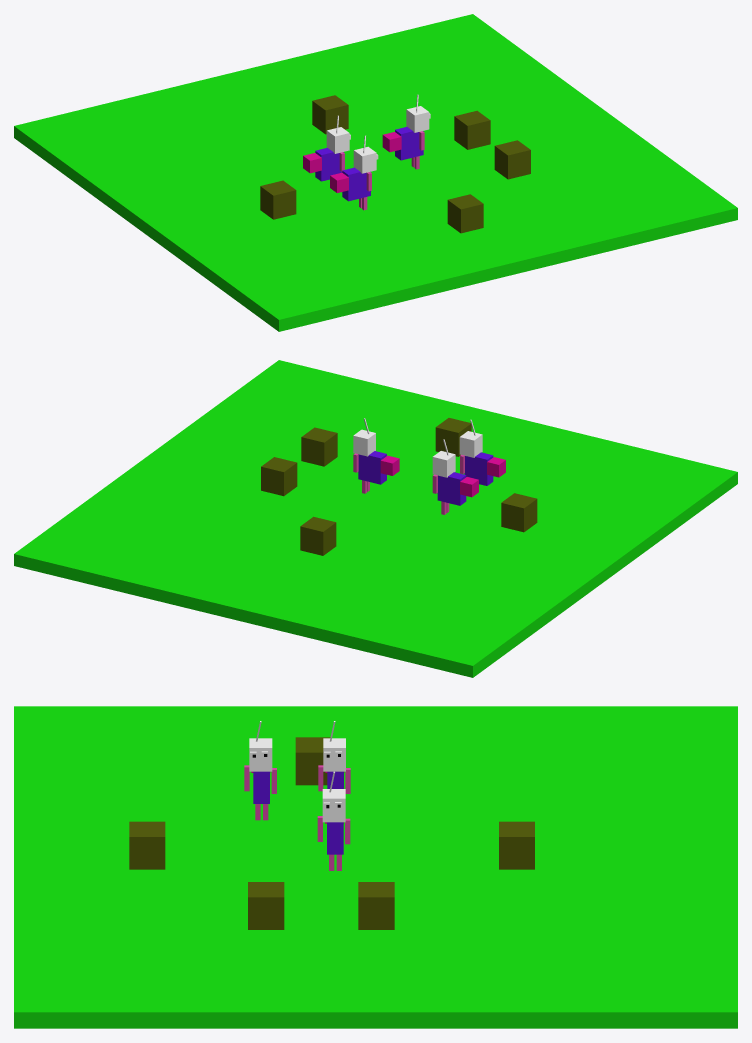
Rendered from Practica8.gltf.
3 views of the same model, one above another, from view 1: azimuth 30°, elevation 25°; view 2: azimuth 150°, elevation 25°; view 3: azimuth 270°, elevation 25° (orthographic). The views are drawn at different scales.
Visible parts, largest first — view 1: MeshInstance3D, MeshInstance3D3, MeshInstance3D2, MeshInstance3D4, MeshInstance3D6, MeshInstance3D5, Cuerpo, Cuerpo3, Cuerpo2, Cabeza2, Cabeza3, Cabeza; view 2: MeshInstance3D, MeshInstance3D2, MeshInstance3D3, MeshInstance3D6, MeshInstance3D5, MeshInstance3D4, Cuerpo, Cuerpo2, Cuerpo3, Cabeza2, Cabeza3, Cabeza; view 3: MeshInstance3D, MeshInstance3D4, MeshInstance3D2, MeshInstance3D3, MeshInstance3D5, MeshInstance3D6, Cabeza3, Cabeza, Cabeza2, Cuerpo, Cuerpo3.
Boxes of the visible parts, x1,y1,x2,y2 form: MeshInstance3D: (14, 14, 737, 331); MeshInstance3D3: (494, 140, 530, 179); MeshInstance3D2: (454, 110, 490, 149); MeshInstance3D4: (447, 194, 483, 233); MeshInstance3D6: (260, 180, 296, 219); MeshInstance3D5: (312, 95, 348, 134); Cuerpo: (395, 127, 423, 160); Cuerpo3: (342, 167, 370, 201); Cuerpo2: (315, 148, 343, 181); Cabeza2: (326, 127, 349, 153); Cabeza3: (353, 146, 376, 173); Cabeza: (406, 106, 429, 132); MeshInstance3D: (14, 360, 737, 677); MeshInstance3D2: (261, 457, 297, 496); MeshInstance3D3: (301, 427, 337, 466); MeshInstance3D6: (501, 493, 537, 532); MeshInstance3D5: (300, 516, 336, 555); MeshInstance3D4: (435, 418, 471, 456); Cuerpo: (358, 451, 386, 484); Cuerpo2: (437, 472, 466, 505); Cuerpo3: (464, 452, 493, 485); Cabeza2: (432, 451, 455, 477); Cabeza3: (459, 431, 482, 457); Cabeza: (353, 429, 375, 456); MeshInstance3D: (14, 706, 737, 1028); MeshInstance3D4: (129, 821, 165, 869); MeshInstance3D2: (358, 882, 394, 929); MeshInstance3D3: (248, 882, 284, 929); MeshInstance3D5: (499, 821, 534, 869); MeshInstance3D6: (295, 737, 330, 785); Cabeza3: (249, 738, 272, 771); Cabeza: (322, 789, 345, 822); Cabeza2: (323, 738, 345, 771); Cuerpo: (327, 822, 343, 854); Cuerpo3: (253, 771, 269, 803).
Bounding box in the file's own units: 20 × 3.71 × 20.
